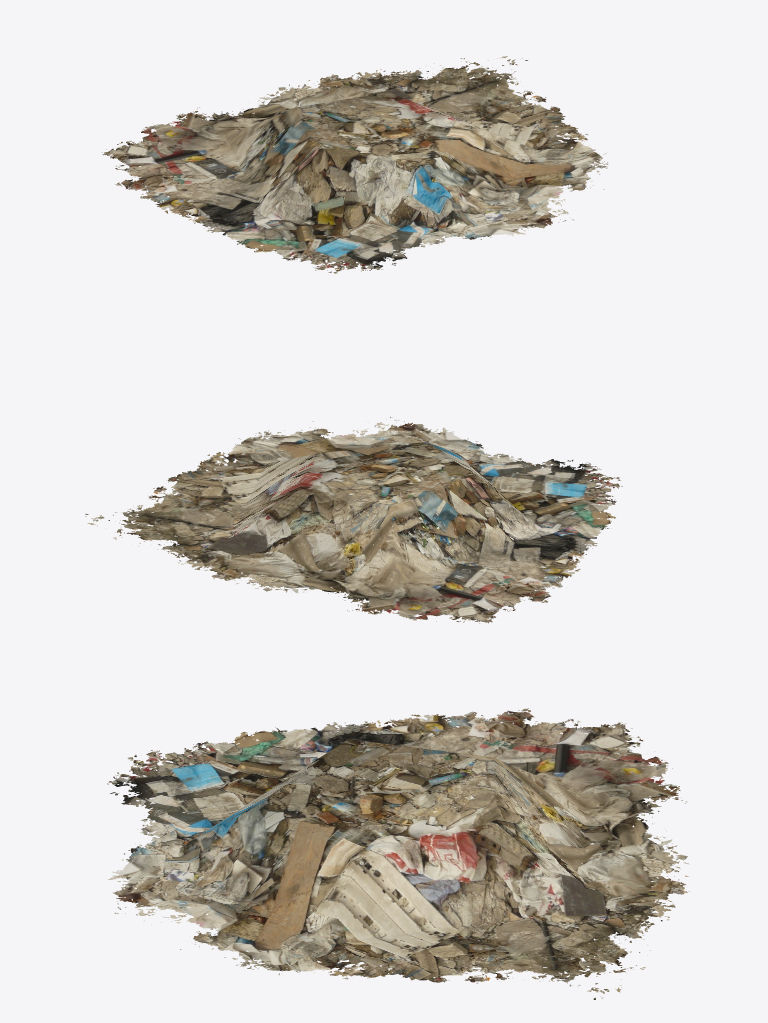
File: Trash.dae
The picture shows the model from 3 angles, top to bottom: view 1: azimuth 30°, elevation 25°; view 2: azimuth 150°, elevation 25°; view 3: azimuth 270°, elevation 25°; orthographic projection. The views are drawn at different scales.
Visible parts, largest first — view 1: Trash; view 2: Trash; view 3: Trash.
Part boxes in pixels (x1,y1,x2,y2): Trash: (102, 56, 608, 273); Trash: (85, 416, 622, 623); Trash: (107, 708, 689, 999).
Bounding box in the file's own units: 3.7 × 3.7 × 0.3425.
1 material, 1 textured.
